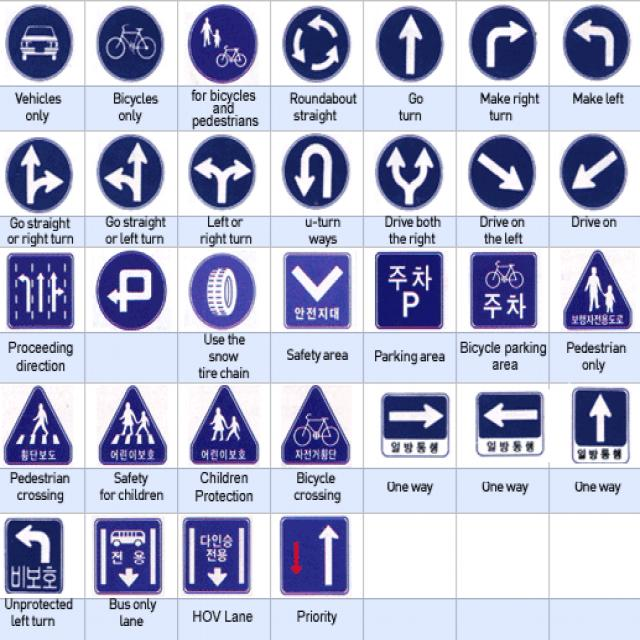Indication_Bicycle_crossing: (278, 385, 354, 467)
Indication_Bicycle_parking_area: (468, 249, 540, 330)
Indication_Bicycles_only: (90, 3, 174, 84)
Indication_Bus_only_lane: (92, 516, 165, 595)
Indication_Children_Protection: (187, 383, 263, 466)
Indication_Drive_both_the_right: (372, 134, 446, 212)
Indication_Drive_on_the_left: (558, 133, 632, 212)
Indication_Drive_on_the_right: (467, 133, 538, 212)
Indication_Go_straight_or_left_turn: (91, 132, 174, 212)
Indication_Go_straight_or_right_turn: (3, 133, 80, 214)
Indication_HOV_Lane: (180, 516, 253, 598)
Indication_Left_or_right_turn: (186, 133, 258, 212)
Indication_Make_left_turn: (557, 2, 637, 84)
Indication_Make_right_turn: (463, 4, 542, 83)
Indication_One_way_left: (472, 387, 547, 461)
Indication_One_way_right: (376, 392, 453, 462)
Indication_One_way_straight: (566, 385, 634, 465)
Indication_Parking_area: (372, 252, 446, 330)
Indication_Pedestrian_crossing: (2, 384, 76, 466)
Indication_Pedestrian_only: (560, 248, 634, 331)
Indication_Priority: (278, 515, 353, 596)
Indication_Proceeding_direction: (4, 250, 76, 330)
Indication_Roundabout_straight: (278, 4, 356, 84)
Indication_Safety_area: (282, 251, 354, 331)
Indication_Safety_for_children: (94, 384, 171, 465)
Indication_Unprotected_left_turn: (3, 516, 68, 596)
Indication_Use_the_snow_tire_chain: (185, 250, 257, 330)
Indication_Vehicles_only: (2, 4, 80, 84)
Indication_for_bicycles_and_pedestrians: (184, 2, 262, 84)
Indication_u-turn_ways: (279, 132, 352, 211)
